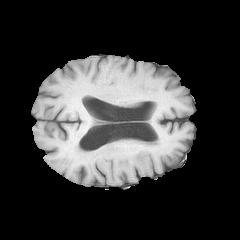glioma: (74, 137, 167, 174)
